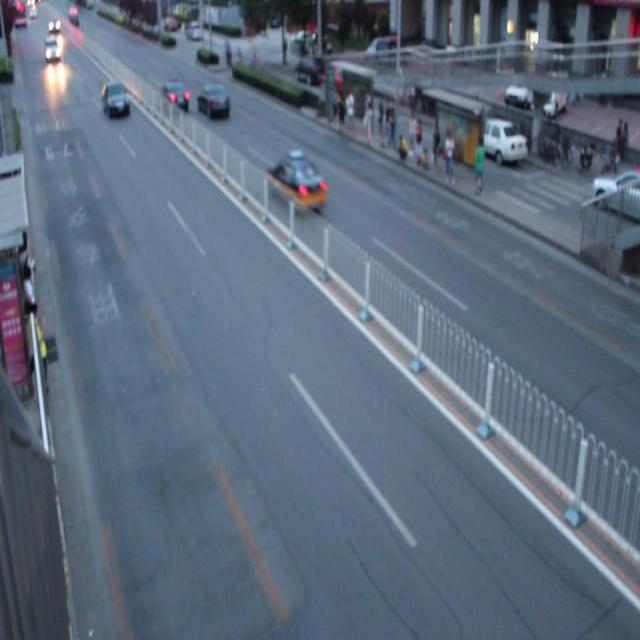car: (265, 152, 326, 212), (197, 82, 231, 120), (100, 80, 130, 116), (158, 80, 189, 112)
